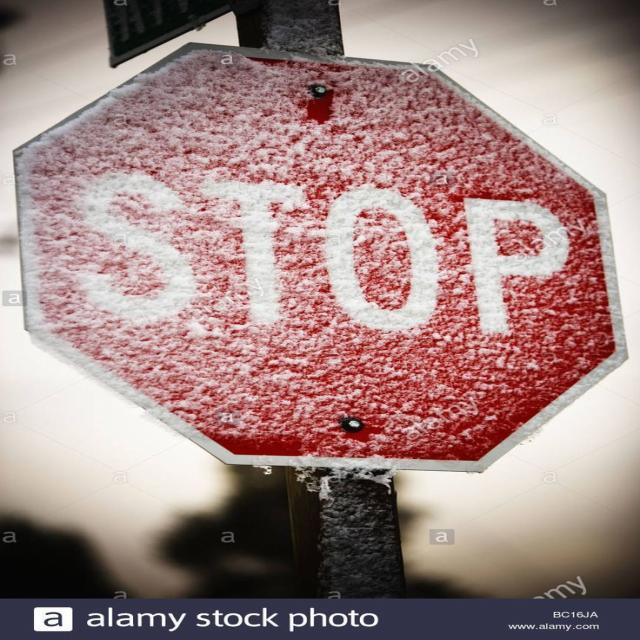stop: (11, 40, 629, 474)
